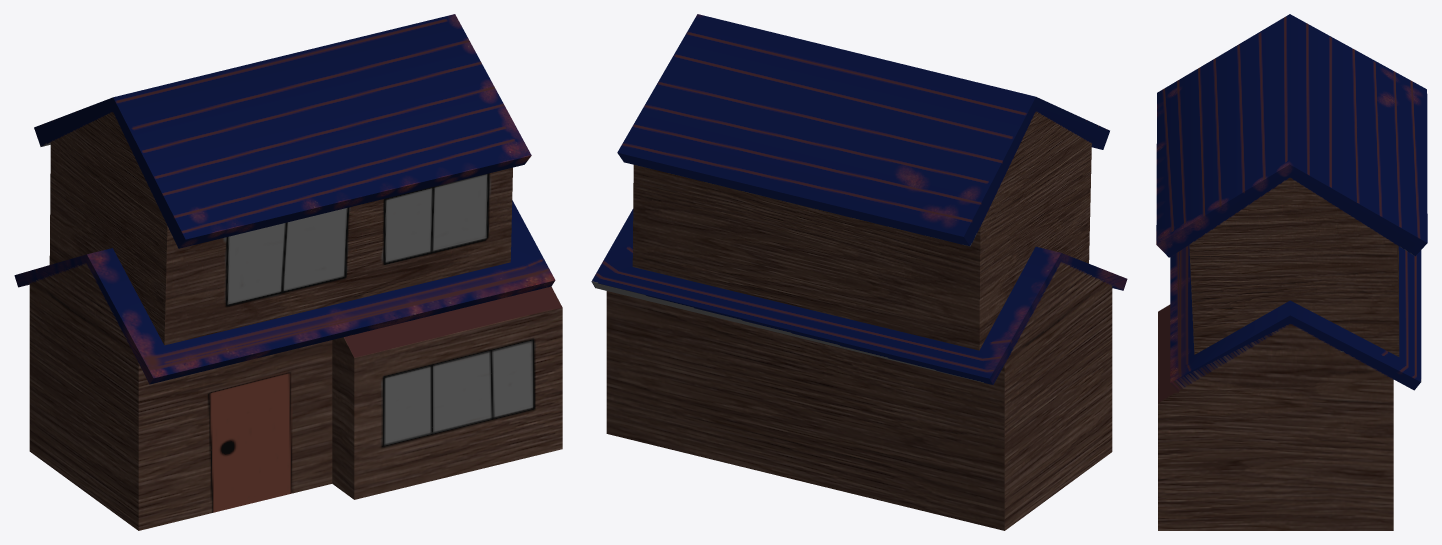
Rendered from House5.fbx.
3 views of the same model, side by side, from view 1: azimuth 30°, elevation 25°; view 2: azimuth 150°, elevation 25°; view 3: azimuth 270°, elevation 25° (orthographic). The views are drawn at different scales.
Visible parts, largest first — view 1: House4_House5_pPlane2; view 2: House4_House5_pPlane2; view 3: House4_House5_pPlane2.
Part boxes in pixels (bbox=[...]): House4_House5_pPlane2: bbox=[14, 14, 562, 530]; House4_House5_pPlane2: bbox=[591, 14, 1127, 530]; House4_House5_pPlane2: bbox=[1156, 14, 1427, 530].
Bounding box in the file's own units: 0.0997 × 0.0924 × 0.0646.
Materials: 1 (1 with a texture image).
